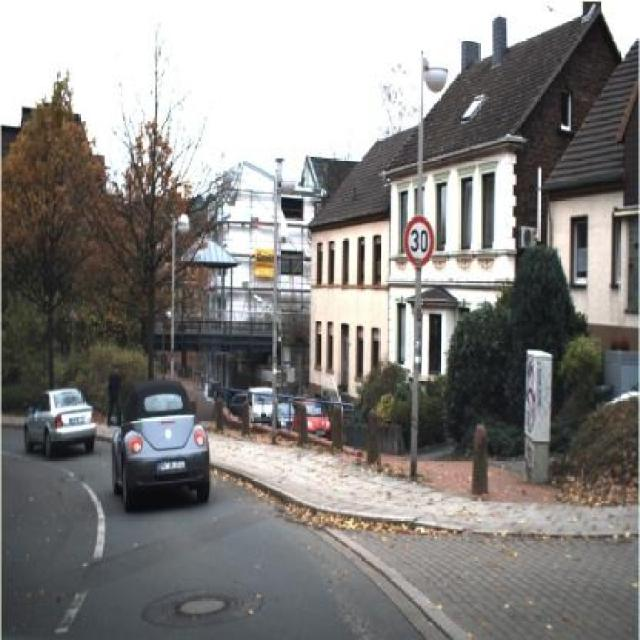forb_speed_over_30: (403, 214, 434, 271)
